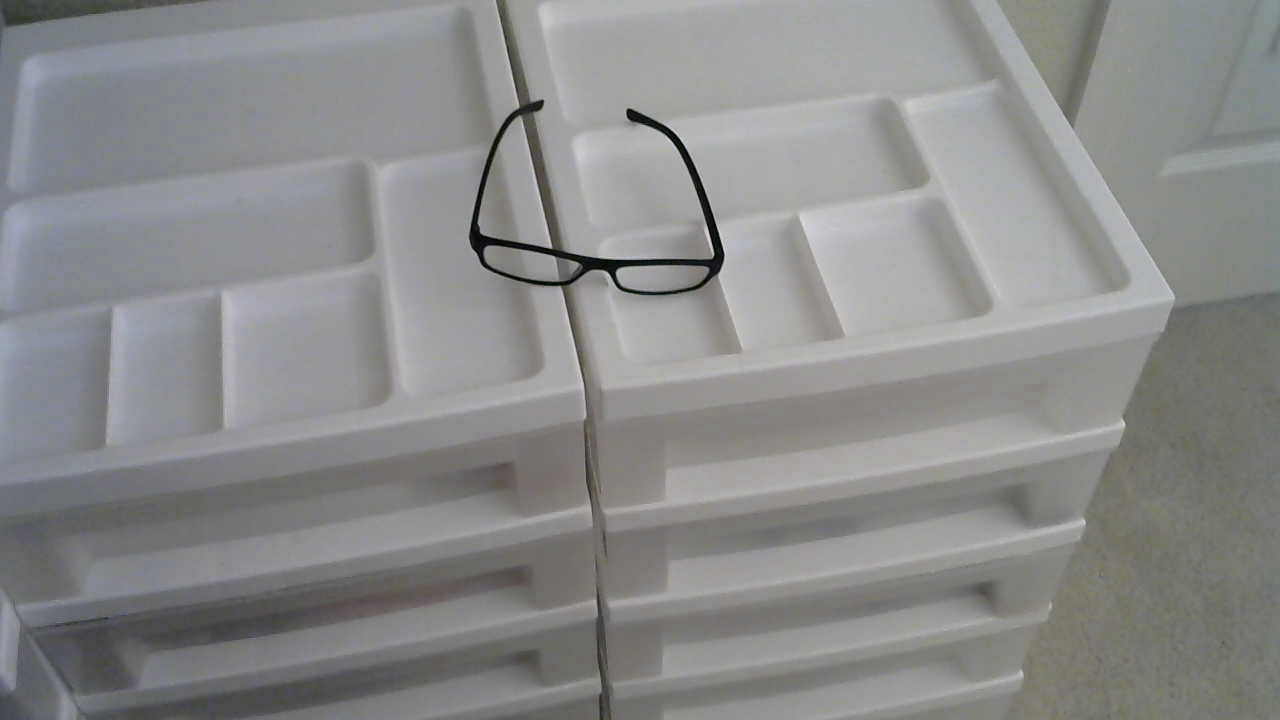Glasses: (432, 74, 743, 315)
